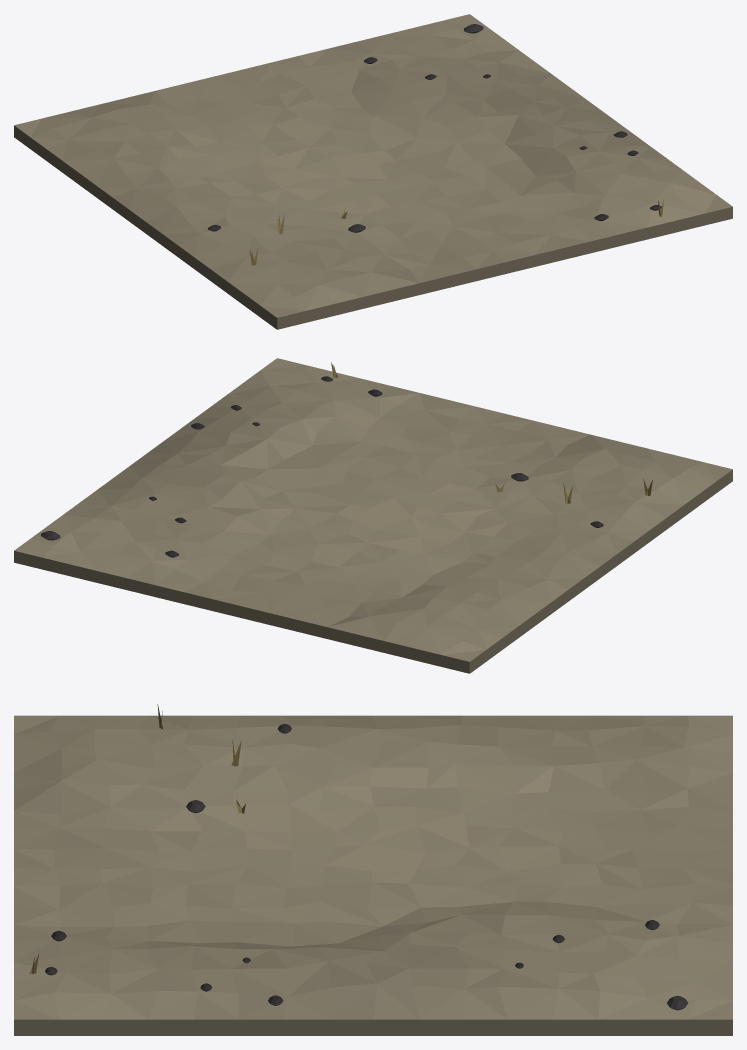
The model's file is CHUNK_glass_ash_desert__ash_dunes.glb.
3 renders of one model, top to bottom at view 1: azimuth 30°, elevation 25°; view 2: azimuth 150°, elevation 25°; view 3: azimuth 270°, elevation 25°, orthographic. The views are drawn at different scales.
Parts seen in each view (by area): view 1: CHUNK_glass_ash_desert__ash_dunes; view 2: CHUNK_glass_ash_desert__ash_dunes; view 3: CHUNK_glass_ash_desert__ash_dunes.
Part boxes in pixels (bbox=[...]): CHUNK_glass_ash_desert__ash_dunes: bbox=[14, 14, 732, 329]; CHUNK_glass_ash_desert__ash_dunes: bbox=[14, 358, 732, 673]; CHUNK_glass_ash_desert__ash_dunes: bbox=[14, 704, 732, 1035].
Size of the model in its own units: 8 by 0.6048 by 8.
